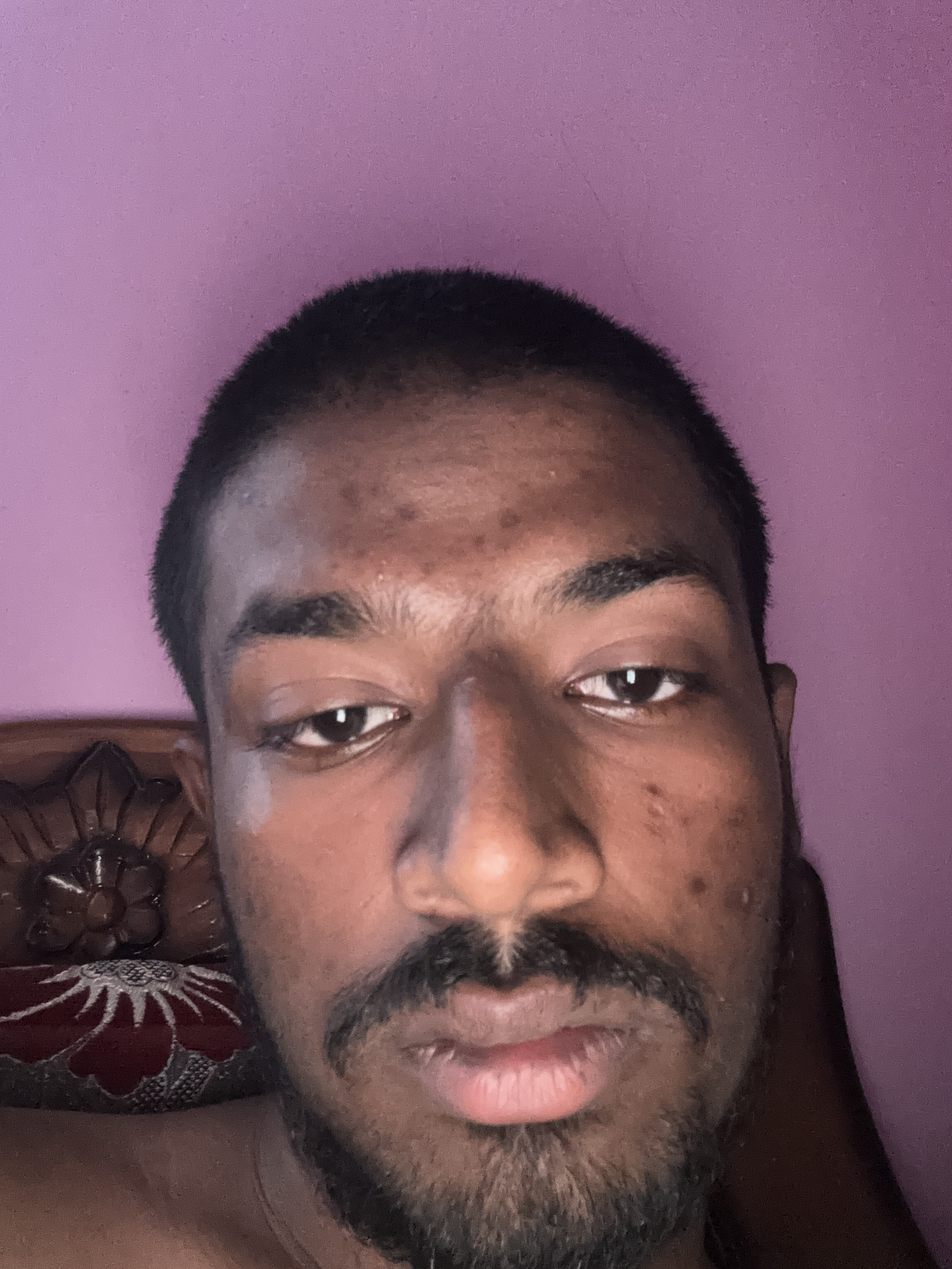pustule: (740, 886, 756, 908), (547, 468, 562, 482), (719, 995, 729, 1005)
